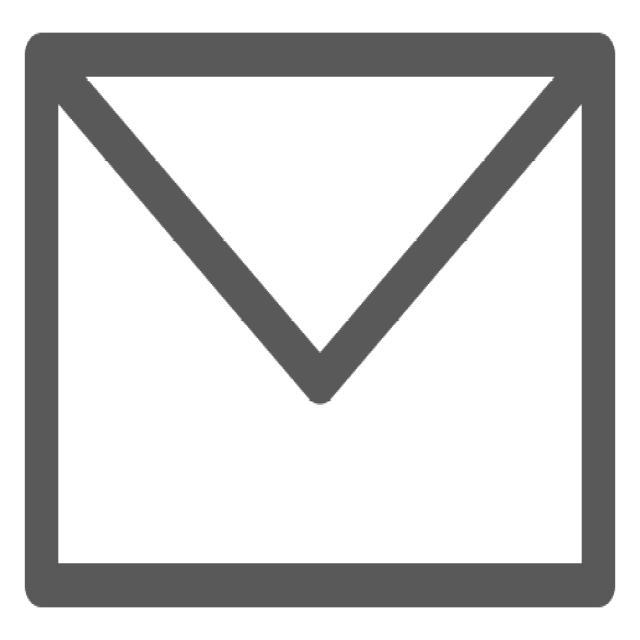letter: (15, 17, 632, 624)
